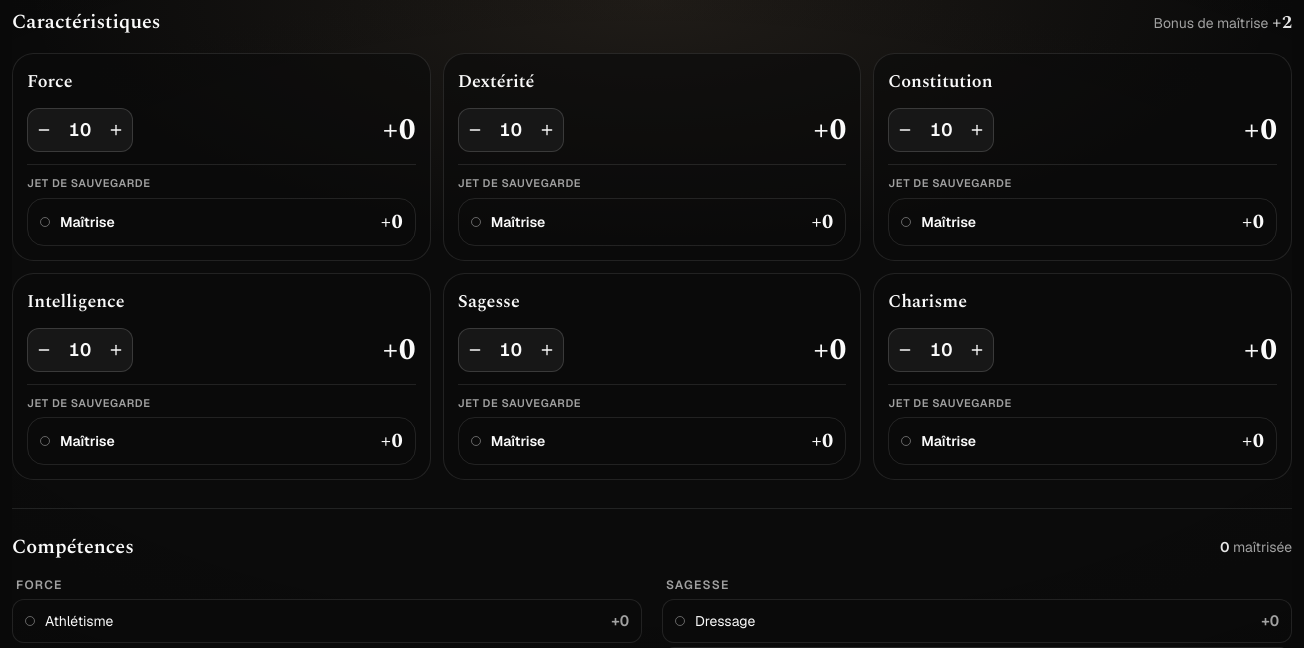
AbilitiesTab › steps a base score and updates its modifier
The image size is (1304, 648).
Click the button named "Monter Force" at (116, 130), box [100,109,132,151]
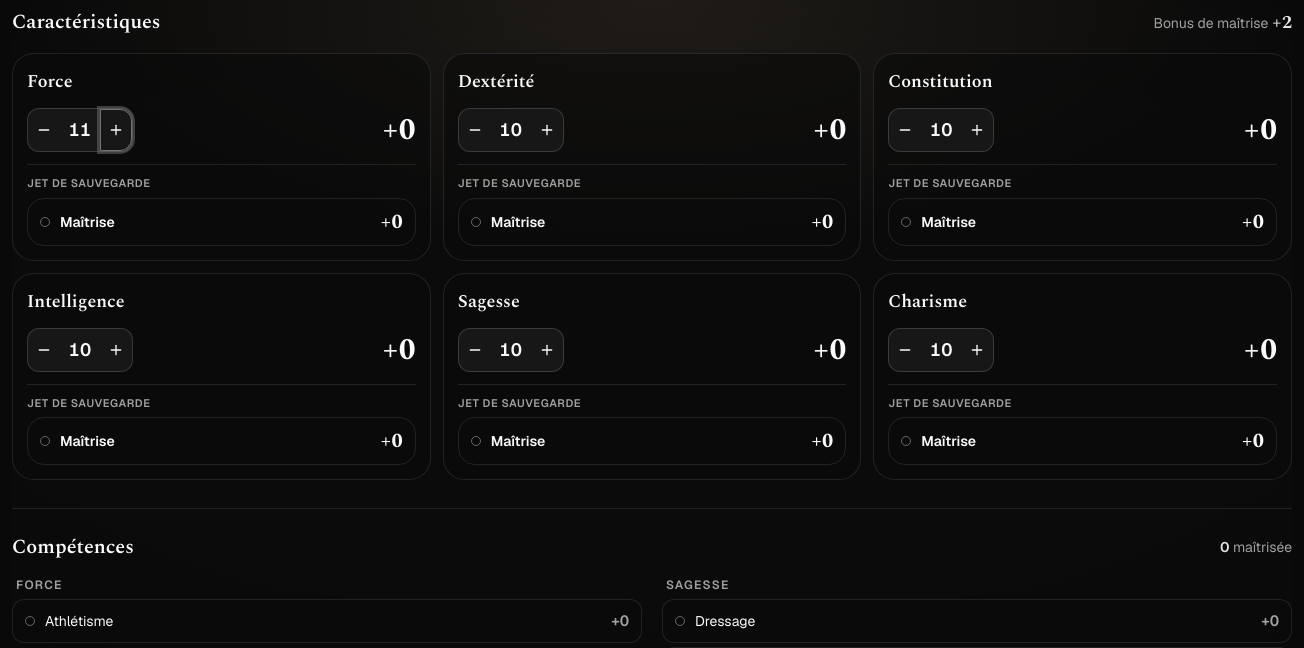
Click the button named "Monter Force" at (116, 130), box [100,109,132,151]
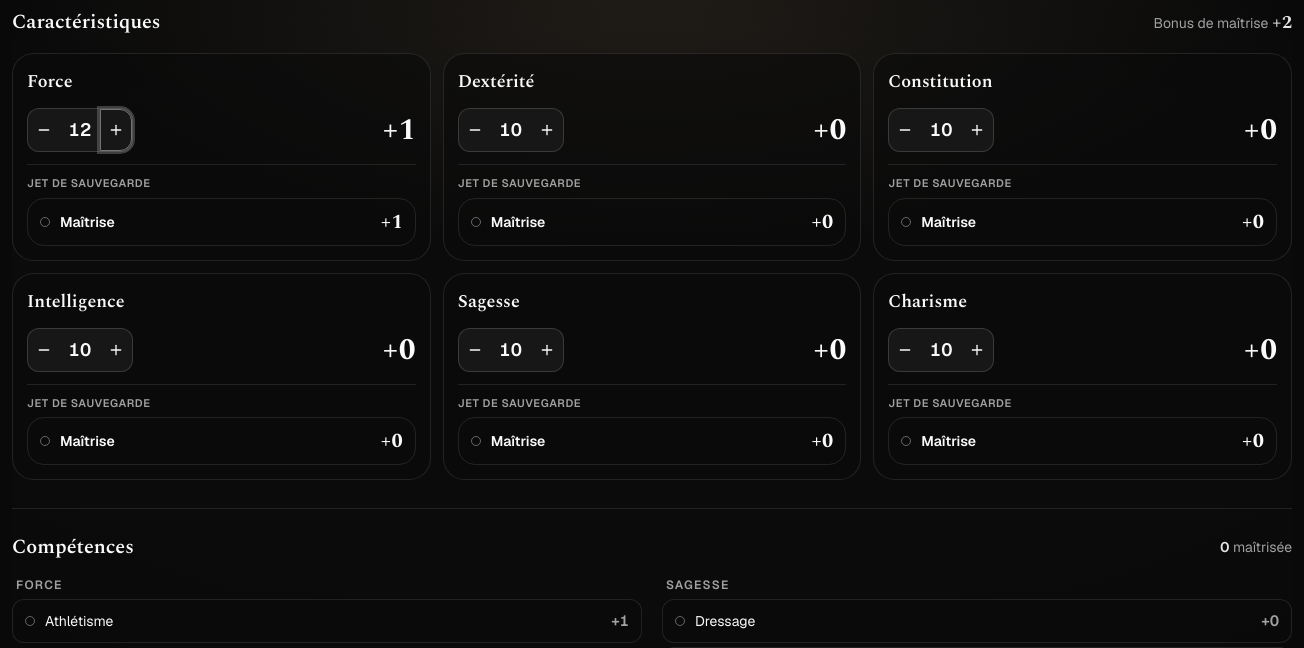
Expected: the text named "Modificateur +1" is shown, [382,115,416,145]
